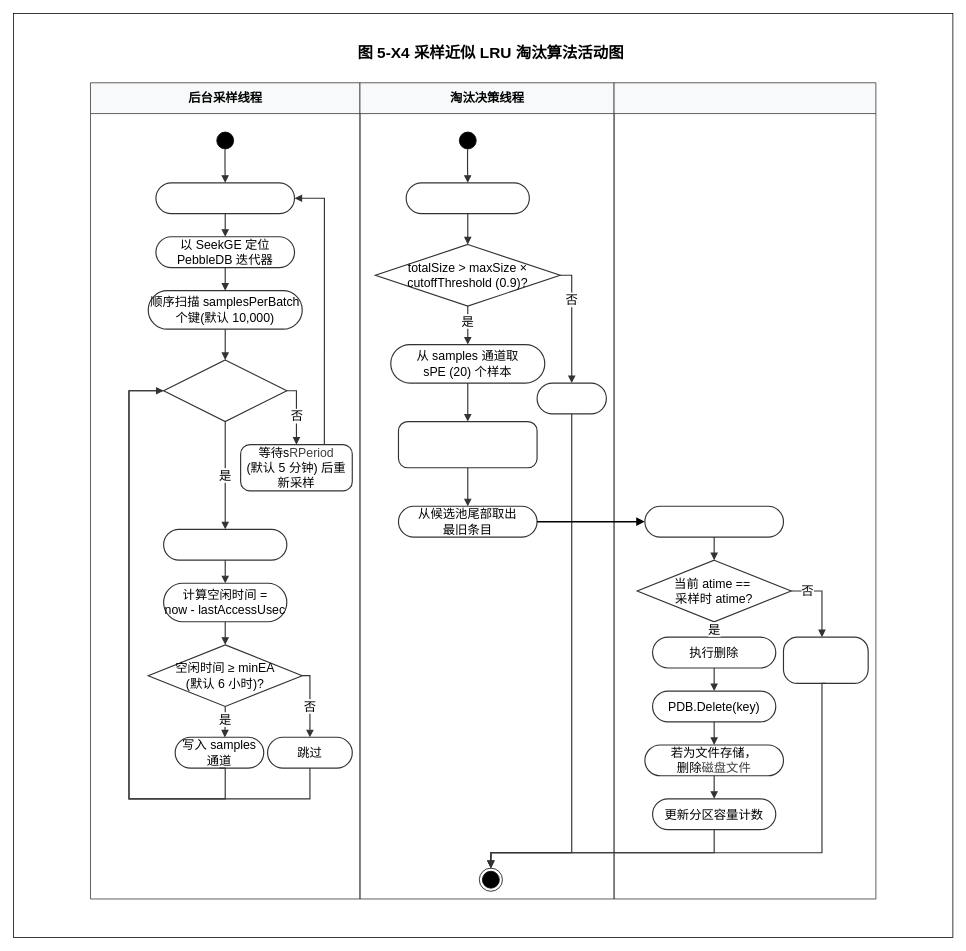
The diagram is 966 pixels wide and 951 high, and some of its shapes have lost their labels. Here are the shapes that lost their labels. From the top down, the box of each, then its label:
(155, 182, 295, 214): 生成随机 PebbleKey 前缀
(405, 182, 530, 214): 每秒检查分区总容量
(163, 359, 287, 422): 还有扫描结果?
(536, 382, 607, 414): 不触发淘汰
(398, 421, 537, 468): 将样本按 lastAUsec 升序插入候选池 (池大小上限 500)
(613, 82, 876, 899): 淘汰执行线程
(644, 505, 784, 537): 二次校验 atime 是否被更新
(163, 528, 287, 560): 解析 FileMetadata
(783, 636, 868, 684): 放弃淘汰 已被近期访问的条目
